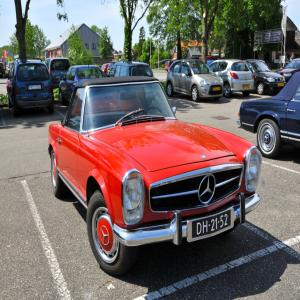Vehicle-registration-plate: (192, 209, 231, 239), (29, 85, 43, 91), (213, 88, 221, 92), (278, 83, 285, 87), (244, 85, 250, 89)
